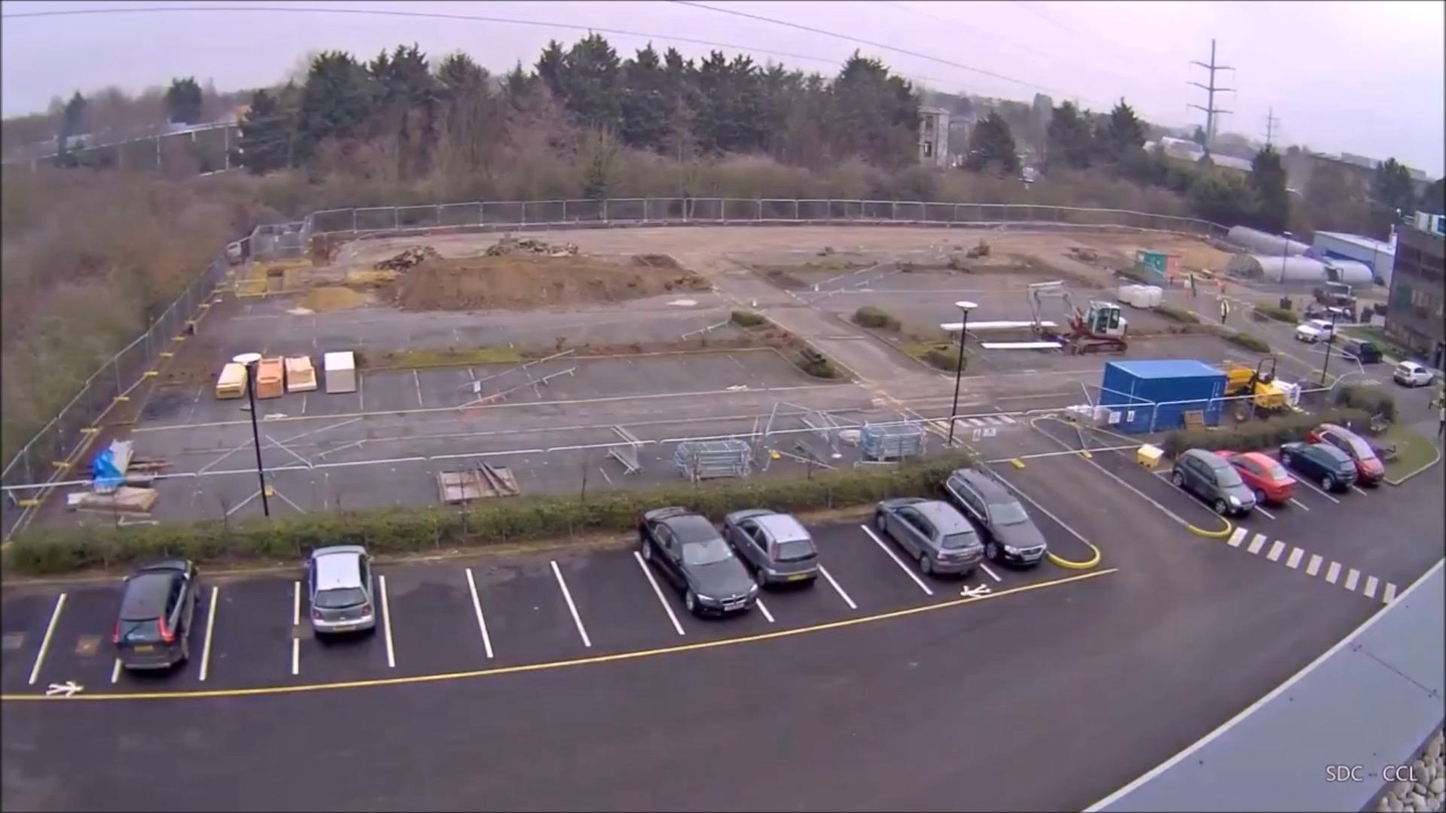free: (485, 547, 573, 658), (0, 575, 88, 686), (570, 547, 658, 658), (824, 505, 912, 616), (199, 570, 286, 681), (397, 556, 484, 667)
occupied: (304, 544, 377, 638), (1176, 449, 1263, 516), (661, 525, 727, 607), (1289, 428, 1368, 480), (901, 488, 950, 568), (984, 480, 1033, 560), (748, 505, 797, 585), (119, 562, 168, 642)
